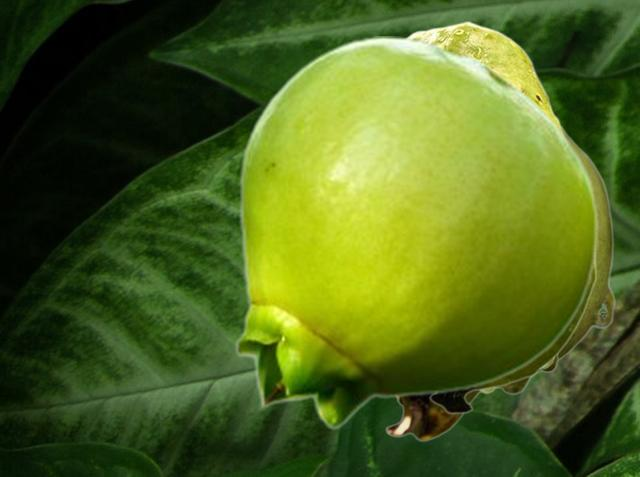guava: (234, 36, 598, 429), (407, 21, 596, 414), (383, 125, 614, 440)
